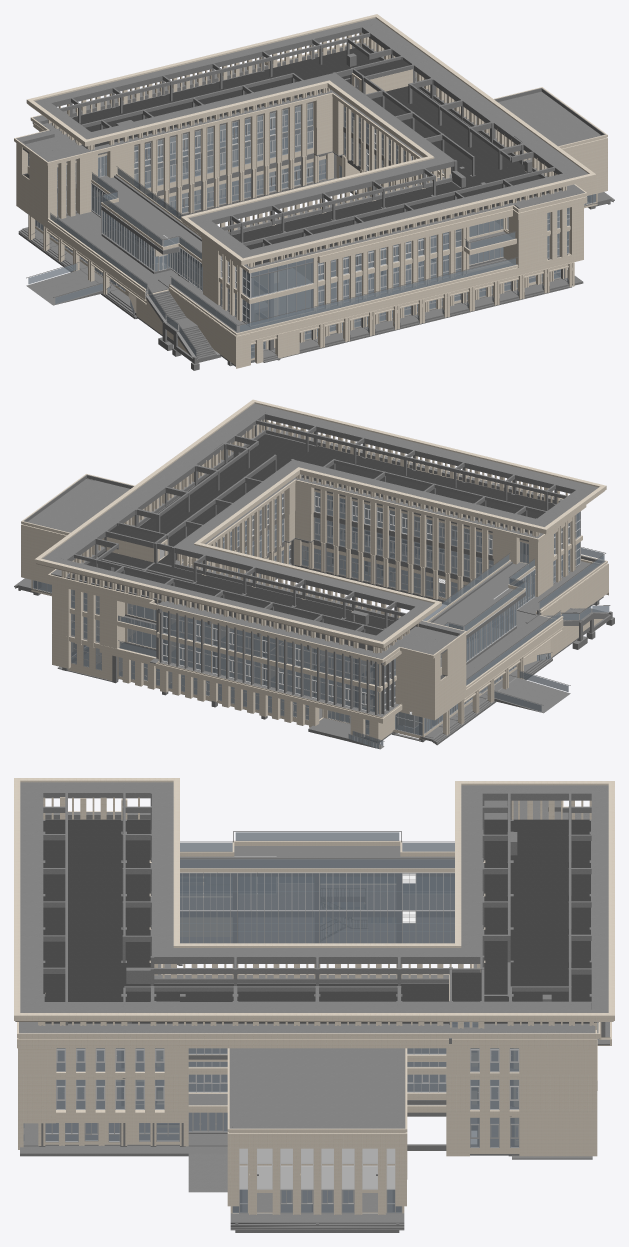
File: tsg.gltf
3 views of the same model, one above another, from view 1: azimuth 30°, elevation 25°; view 2: azimuth 150°, elevation 25°; view 3: azimuth 270°, elevation 25° (orthographic). The views are drawn at different scales.
Parts seen in each view (by area): view 1: tsgdc01, tsg2c01, tsg3c01, tsg1c01; view 2: tsgdc01, tsg2c01, tsg3c01, tsg1c01; view 3: tsgdc01, tsg2c01, tsg1c01, tsg3c01.
Part boxes in pixels (bbox=[...]): tsgdc01: bbox=[14, 14, 596, 277]; tsg2c01: bbox=[16, 121, 607, 370]; tsg3c01: bbox=[16, 46, 607, 298]; tsg1c01: bbox=[18, 150, 614, 368]; tsgdc01: bbox=[34, 399, 606, 665]; tsg2c01: bbox=[21, 481, 614, 723]; tsg3c01: bbox=[21, 433, 580, 687]; tsg1c01: bbox=[14, 530, 608, 749]; tsgdc01: bbox=[14, 778, 614, 1048]; tsg2c01: bbox=[18, 856, 611, 1189]; tsg1c01: bbox=[18, 882, 597, 1232]; tsg3c01: bbox=[18, 800, 597, 1132].
Size of the model in its own units: 85.84 by 18.2 by 61.6.
Materials: 13 (5 with a texture image).
